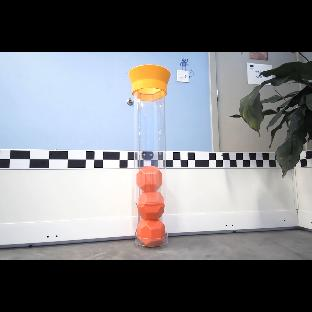V5_RED: (137, 219, 165, 247), (138, 192, 165, 219), (136, 166, 163, 192)
